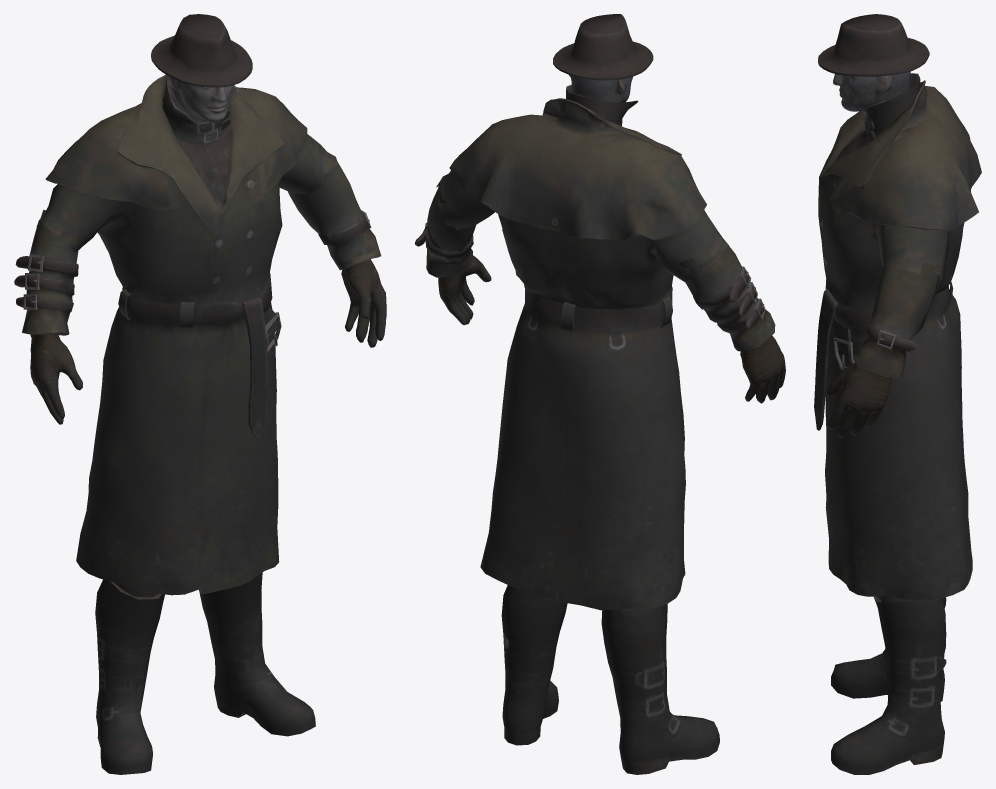
The model's file is Tyr.fbx.
The picture shows the model from 3 angles, left to right: view 1: azimuth 30°, elevation 25°; view 2: azimuth 150°, elevation 25°; view 3: azimuth 270°, elevation 25°; orthographic projection.
Visible parts, largest first — view 1: Tyrant.mo.011; view 2: Tyrant.mo.011; view 3: Tyrant.mo.011.
Part boxes in pixels (box(x1,y1,x2,y2)): Tyrant.mo.011: box(14, 14, 386, 774); Tyrant.mo.011: box(415, 14, 785, 774); Tyrant.mo.011: box(814, 14, 981, 774).
Size of the model in its own units: 4193 by 8235 by 1773.
12 materials, 12 textured.
